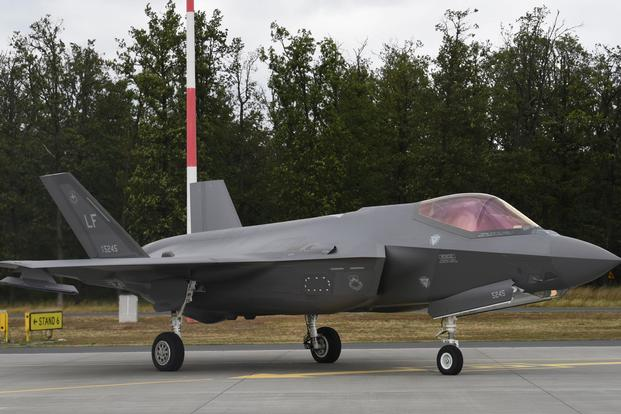F-35 Lightning: (9, 149, 619, 399)
